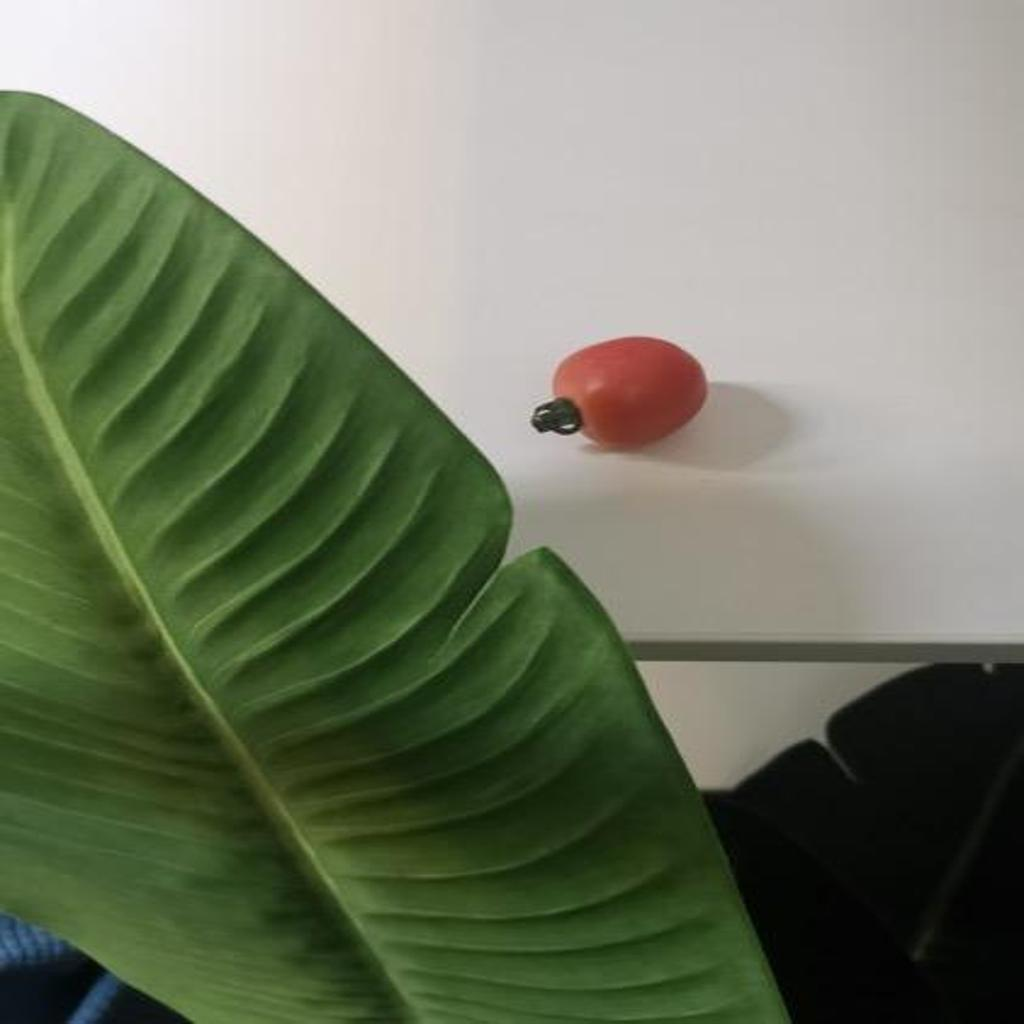tomato: (539, 340, 714, 447)
